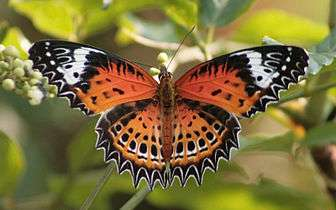Argyreus hyperbius: (28, 22, 313, 191)
butterfly: (26, 20, 311, 189)
